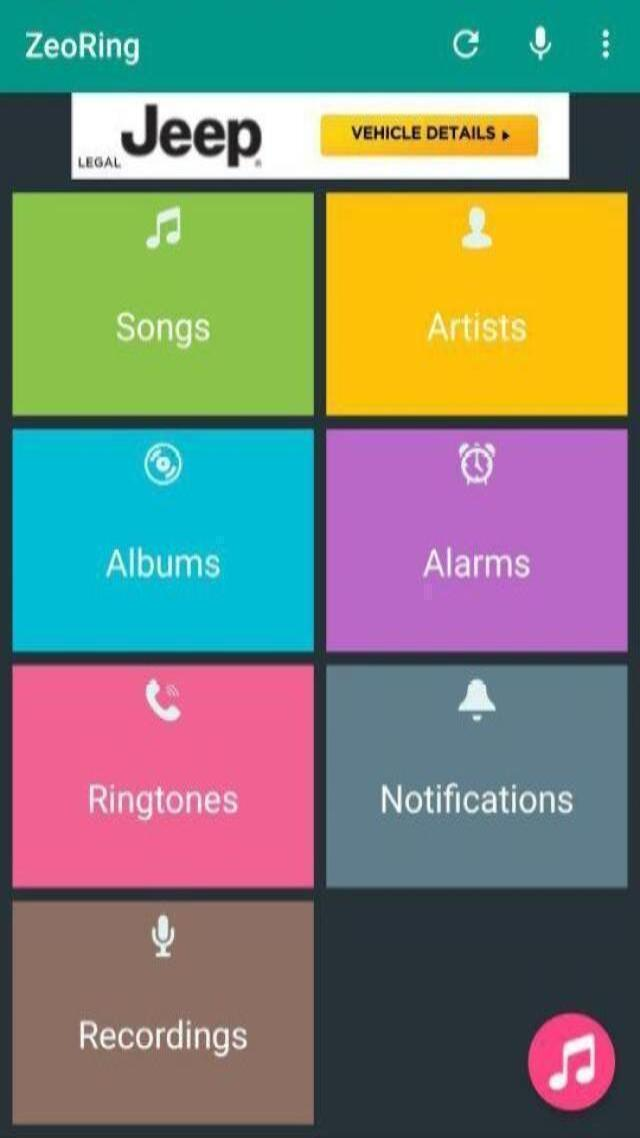Icon: (442, 24, 488, 64), (521, 22, 559, 68), (591, 24, 622, 66)
Image: (78, 99, 271, 168), (318, 112, 540, 157), (525, 1012, 622, 1112), (450, 674, 504, 731), (137, 674, 187, 727), (452, 438, 502, 489), (136, 440, 185, 489), (145, 207, 183, 254), (461, 207, 494, 257), (147, 912, 175, 959)
Text: (73, 1010, 255, 1066), (372, 785, 572, 825), (82, 780, 242, 827), (17, 25, 150, 71), (99, 544, 229, 588), (105, 306, 218, 354), (406, 544, 538, 582), (414, 306, 534, 346)
TextButton: (11, 663, 316, 900), (322, 188, 628, 419), (321, 898, 628, 1127), (11, 188, 319, 416), (13, 428, 314, 657), (324, 432, 626, 658), (12, 900, 312, 1124), (70, 91, 568, 181)
